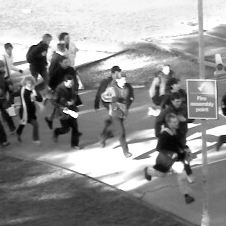person: (144, 114, 197, 205), (99, 73, 134, 157), (155, 92, 193, 161), (95, 66, 123, 150), (54, 76, 85, 149), (16, 76, 41, 146), (145, 64, 176, 116), (27, 32, 52, 85), (1, 58, 16, 146), (50, 56, 78, 95), (1, 41, 23, 90), (48, 41, 73, 77), (58, 31, 77, 63), (163, 77, 186, 96)
